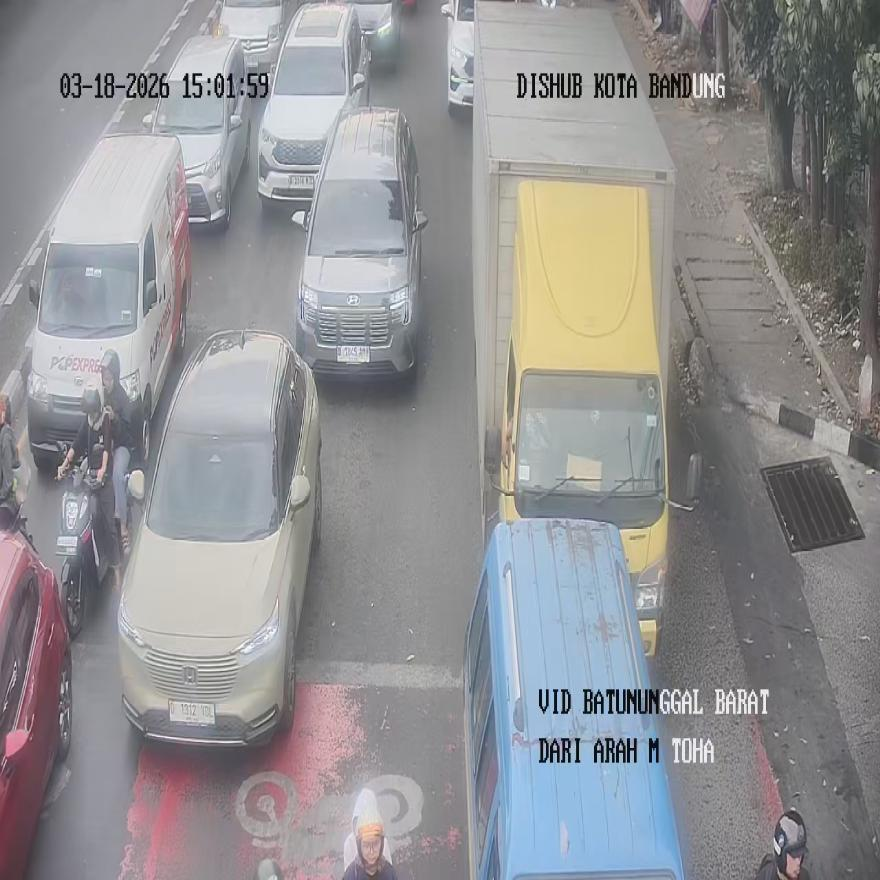Motor: (118, 330, 322, 747), (462, 518, 685, 878), (27, 132, 192, 469), (290, 106, 427, 376), (0, 526, 72, 877), (256, 0, 371, 202), (142, 36, 250, 228), (214, 0, 290, 79), (441, 0, 474, 110)
Truk: (57, 461, 118, 638)
